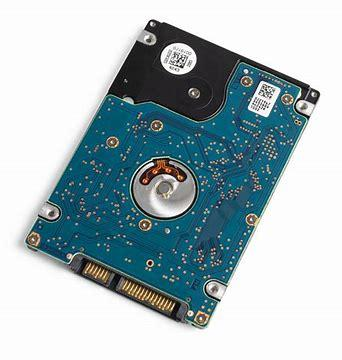internal HDD: (24, 20, 321, 330)
